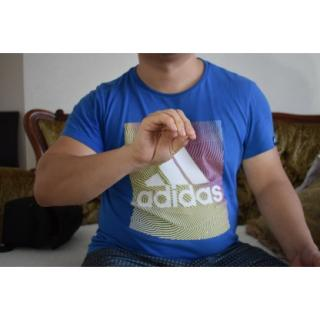HA: (130, 104, 199, 168)
